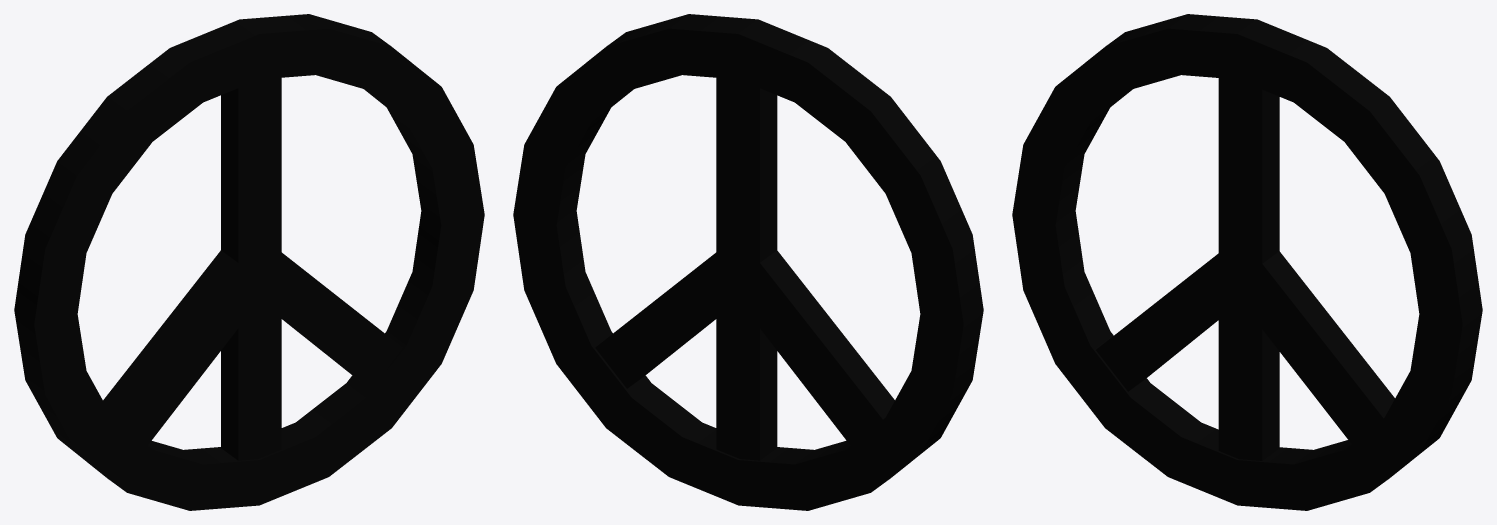
The model's file is Anti-warSymbol.glb.
The picture shows the model from 3 angles, left to right: view 1: azimuth 30°, elevation 25°; view 2: azimuth 150°, elevation 25°; view 3: azimuth 330°, elevation 25°; orthographic projection.
Visible parts, largest first — view 1: Anti-warSymbol; view 2: Anti-warSymbol; view 3: Anti-warSymbol.
Part boxes in pixels (left/top/right/bottom): Anti-warSymbol: left=14, top=14, right=484, bottom=510; Anti-warSymbol: left=513, top=14, right=983, bottom=510; Anti-warSymbol: left=1012, top=14, right=1482, bottom=510.
Bounding box in the file's own units: 0.00995 × 0.00995 × 0.000763.
1 material, 1 textured.
